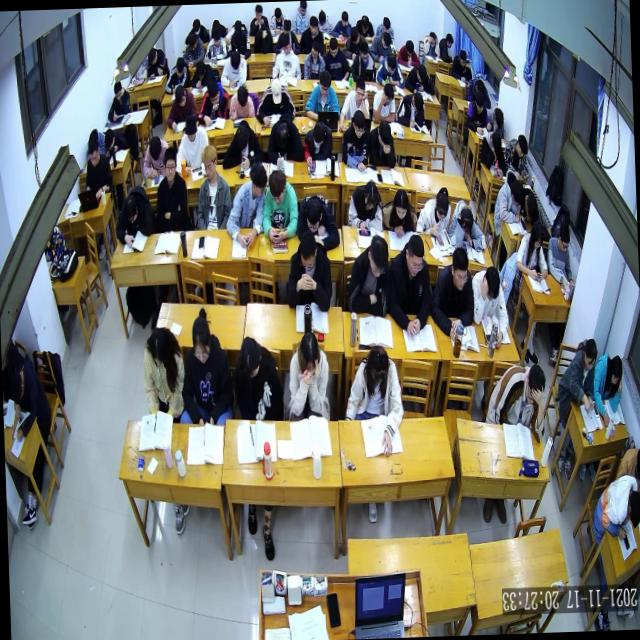bow: (112, 183, 156, 248), (294, 190, 340, 250), (220, 116, 264, 168), (264, 112, 304, 167), (447, 197, 486, 250), (379, 183, 417, 236), (403, 62, 434, 96), (102, 122, 132, 155), (464, 75, 490, 111), (144, 46, 170, 79), (226, 27, 251, 60), (518, 184, 538, 224), (396, 39, 419, 71), (252, 21, 274, 54), (189, 57, 213, 86), (84, 124, 105, 156), (356, 10, 376, 40)
down: (189, 312, 212, 366), (366, 233, 389, 280), (296, 331, 319, 378), (523, 361, 547, 406), (366, 342, 389, 387), (404, 232, 426, 278), (239, 336, 261, 381), (146, 323, 168, 368), (450, 245, 470, 292), (298, 230, 318, 274), (268, 168, 288, 206), (5, 366, 25, 402), (200, 140, 218, 180), (304, 194, 323, 230), (483, 264, 500, 304), (392, 184, 409, 222), (582, 336, 598, 372), (626, 484, 640, 524), (608, 352, 624, 386), (122, 194, 140, 224), (233, 123, 250, 152), (274, 120, 290, 150), (362, 178, 378, 208), (433, 191, 448, 223), (530, 220, 545, 251), (182, 114, 198, 143), (556, 220, 570, 252), (317, 68, 331, 98), (460, 204, 474, 232), (510, 178, 524, 206), (523, 191, 537, 218), (270, 76, 283, 104), (148, 132, 162, 158), (207, 80, 220, 106), (354, 76, 366, 104), (88, 141, 100, 168), (516, 134, 528, 160), (382, 82, 394, 107), (172, 85, 185, 108), (357, 38, 369, 62), (411, 90, 423, 114), (236, 82, 248, 106), (103, 128, 115, 151), (416, 61, 428, 83), (490, 130, 502, 152), (386, 52, 397, 75), (492, 106, 503, 129), (173, 54, 184, 76), (253, 26, 264, 48), (186, 30, 198, 50), (230, 49, 242, 69), (308, 13, 320, 33), (380, 30, 392, 50), (279, 73, 297, 86), (349, 24, 360, 45), (194, 58, 205, 78), (212, 26, 222, 48), (280, 34, 290, 56), (474, 78, 486, 96), (474, 91, 484, 112), (147, 47, 158, 66), (231, 29, 242, 48), (113, 80, 123, 100), (310, 38, 320, 58), (328, 36, 338, 56), (458, 47, 468, 67), (191, 15, 201, 34), (282, 18, 292, 37), (316, 8, 326, 26), (404, 38, 414, 56), (444, 31, 454, 49), (427, 30, 436, 49), (340, 10, 349, 28), (298, 1, 308, 17), (254, 4, 263, 21), (273, 5, 282, 22)
lookup: (162, 142, 178, 180)
sit: (342, 342, 404, 459), (176, 306, 233, 428), (482, 361, 548, 445), (382, 228, 432, 338), (427, 239, 476, 340), (230, 334, 284, 424), (140, 321, 186, 422), (284, 326, 332, 420), (283, 224, 333, 312), (342, 230, 392, 318), (3, 352, 51, 443), (222, 160, 270, 250), (554, 336, 600, 416), (151, 138, 189, 232), (589, 470, 640, 540), (470, 262, 510, 350), (260, 162, 300, 248), (194, 140, 232, 228), (591, 346, 625, 424), (172, 113, 211, 175), (512, 218, 548, 284), (339, 106, 371, 172), (254, 76, 296, 126), (344, 176, 384, 228), (303, 65, 342, 118), (492, 168, 526, 226), (414, 184, 451, 236), (546, 218, 574, 286), (82, 139, 113, 200), (336, 76, 369, 132), (197, 77, 230, 128), (164, 80, 197, 129), (301, 115, 333, 164), (366, 119, 396, 170), (269, 30, 302, 75), (479, 130, 507, 180), (502, 132, 530, 180), (140, 132, 170, 176), (464, 88, 492, 134), (374, 50, 406, 90), (348, 36, 376, 81), (322, 36, 350, 80), (393, 89, 426, 126), (297, 13, 325, 56), (218, 50, 248, 88), (371, 81, 396, 126), (162, 52, 190, 92), (106, 76, 130, 122), (300, 38, 326, 80), (227, 84, 256, 120), (273, 18, 299, 56), (342, 24, 368, 61), (203, 24, 227, 61), (368, 29, 393, 64), (180, 30, 204, 66), (247, 2, 270, 38), (450, 44, 472, 80), (329, 10, 352, 40), (485, 106, 505, 140), (268, 5, 288, 38), (291, 1, 311, 34), (437, 31, 454, 64), (422, 28, 441, 56), (314, 6, 333, 33)
